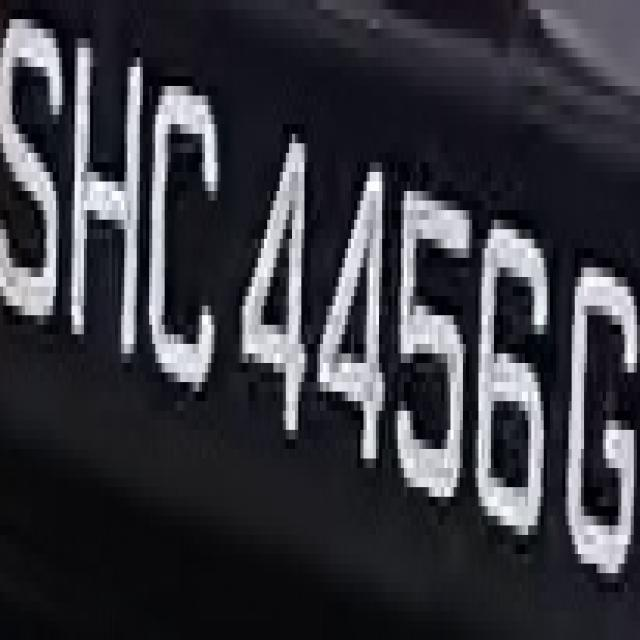4: (308, 95, 392, 478), (236, 86, 314, 420)
5: (392, 134, 469, 525)
6: (472, 172, 550, 564)
C: (155, 67, 227, 411)
G: (559, 239, 631, 602)
H: (59, 0, 155, 373)
S: (3, 9, 72, 353)
